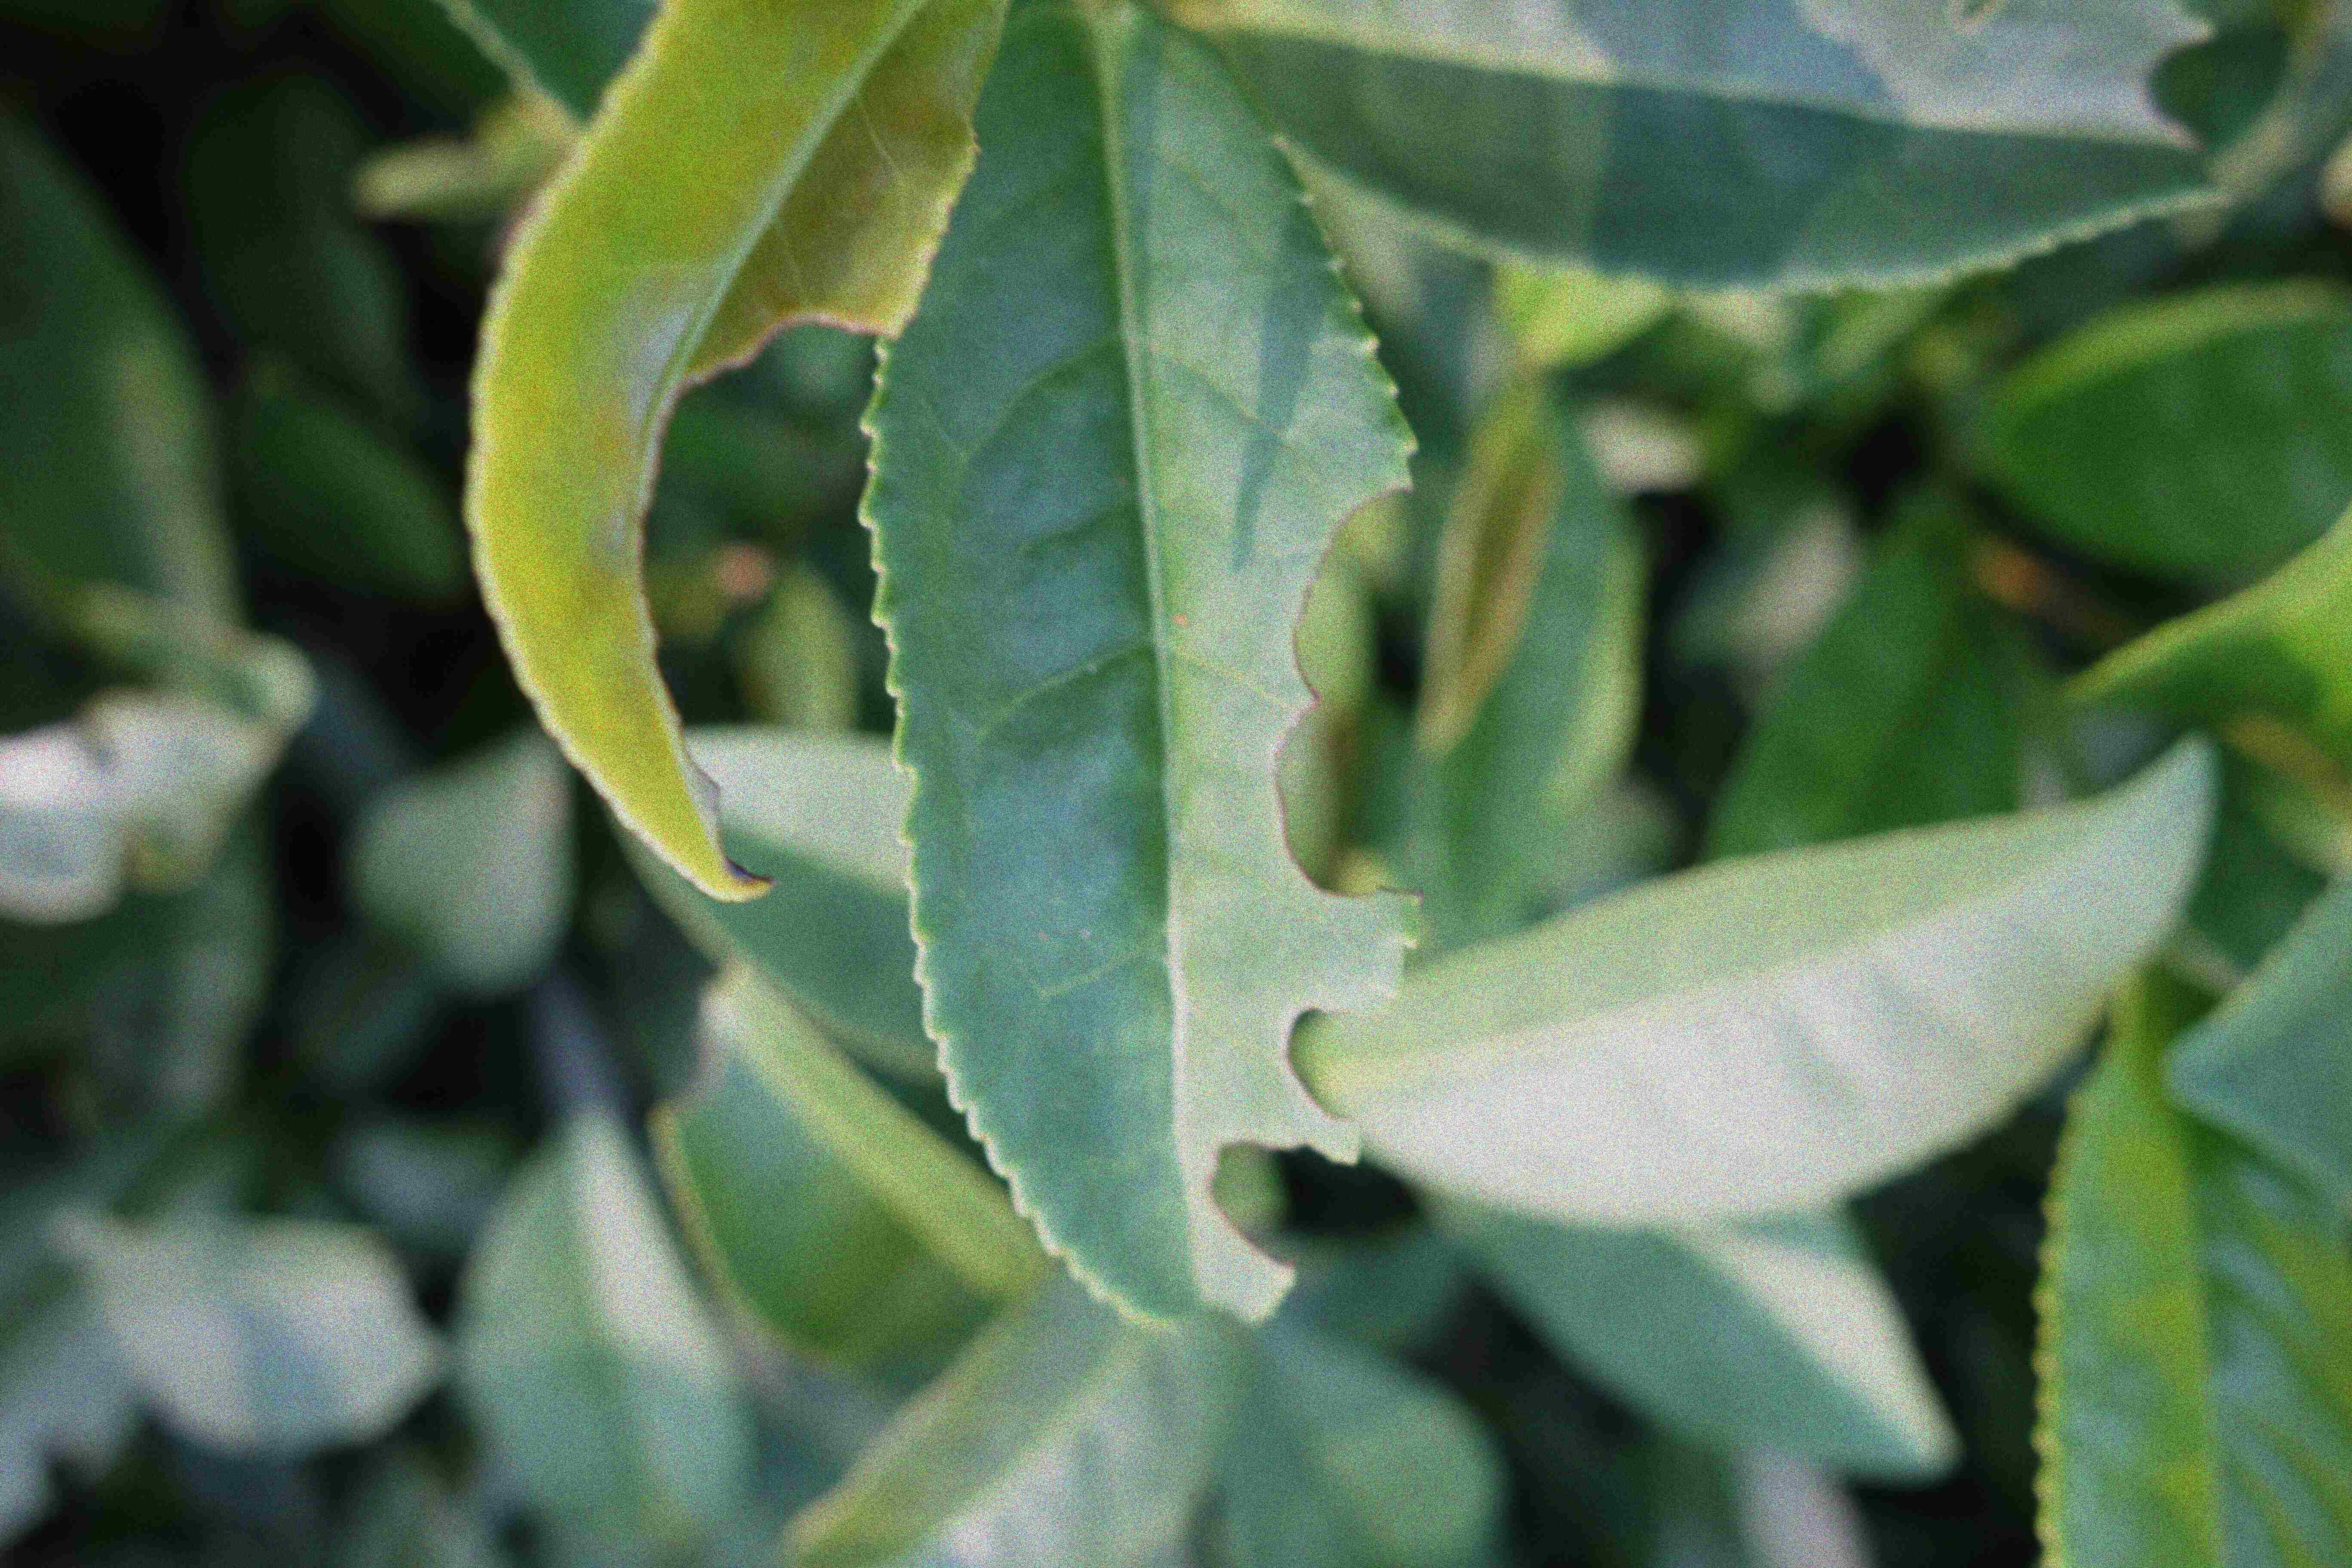chihuo_high: (863, 12, 1423, 1330)
chihuo_low: (458, 7, 1015, 908)
